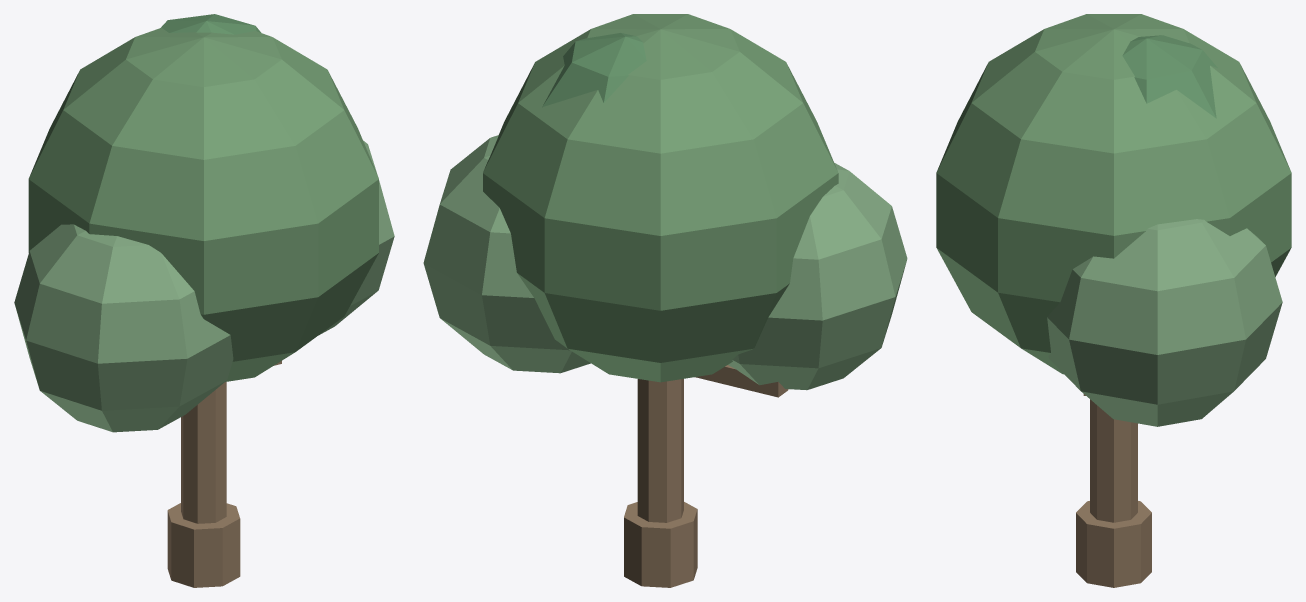
Rendered from tree_round.glb.
3 renders of one model, left to right at view 1: azimuth 30°, elevation 25°; view 2: azimuth 150°, elevation 25°; view 3: azimuth 270°, elevation 25°, orthographic.
Parts seen in each view (by area): view 1: Mesh; view 2: Mesh; view 3: Mesh.
Boxes of the visible parts, x1,y1,x2,y2 form: Mesh: (14,14,394,587); Mesh: (423,14,907,587); Mesh: (936,14,1291,587).
Bounding box in the file's own units: 4.35 × 5.5 × 3.26.
